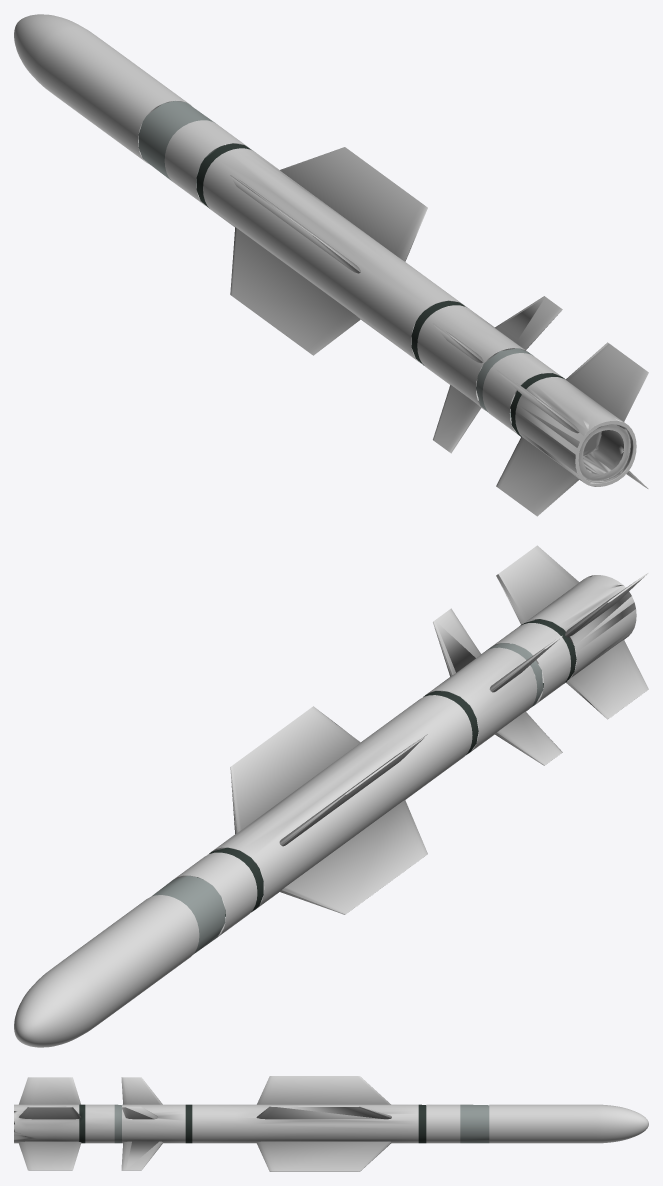
Rendered from w_slam.glb.
The picture shows the model from 3 angles, top to bottom: view 1: azimuth 30°, elevation 25°; view 2: azimuth 150°, elevation 25°; view 3: azimuth 270°, elevation 25°; orthographic projection. The views are drawn at different scales.
Visible parts, largest first — view 1: body|UGM-84_HARPOON, body|FERISECAT_ARMY, body|MADE_BY_FERISECAT; view 2: body|UGM-84_HARPOON, body|FERISECAT_ARMY, body|MADE_BY_FERISECAT; view 3: body|UGM-84_HARPOON, body|FERISECAT_ARMY, body|MADE_BY_FERISECAT.
Part boxes in pixels (left/top/right/bottom): body|UGM-84_HARPOON: left=14, top=14, right=648, bottom=516; body|FERISECAT_ARMY: left=138, top=101, right=541, bottom=418; body|MADE_BY_FERISECAT: left=196, top=143, right=565, bottom=436; body|UGM-84_HARPOON: left=14, top=545, right=648, bottom=1047; body|FERISECAT_ARMY: left=151, top=643, right=543, bottom=954; body|MADE_BY_FERISECAT: left=197, top=619, right=576, bottom=916; body|UGM-84_HARPOON: left=14, top=1076, right=648, bottom=1171; body|FERISECAT_ARMY: left=114, top=1104, right=489, bottom=1143; body|MADE_BY_FERISECAT: left=79, top=1104, right=426, bottom=1143.
Size of the model in its own units: 0.5101 by 0.5101 by 4.46.
Materials: 3 (3 with a texture image).
